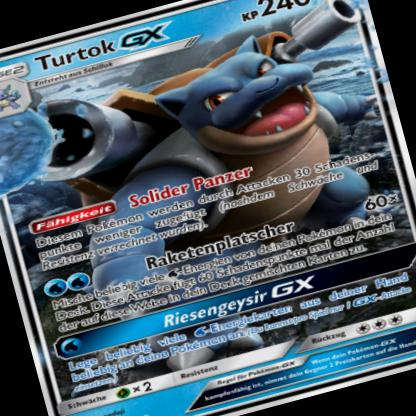Blastoise: (32, 5, 383, 214)
